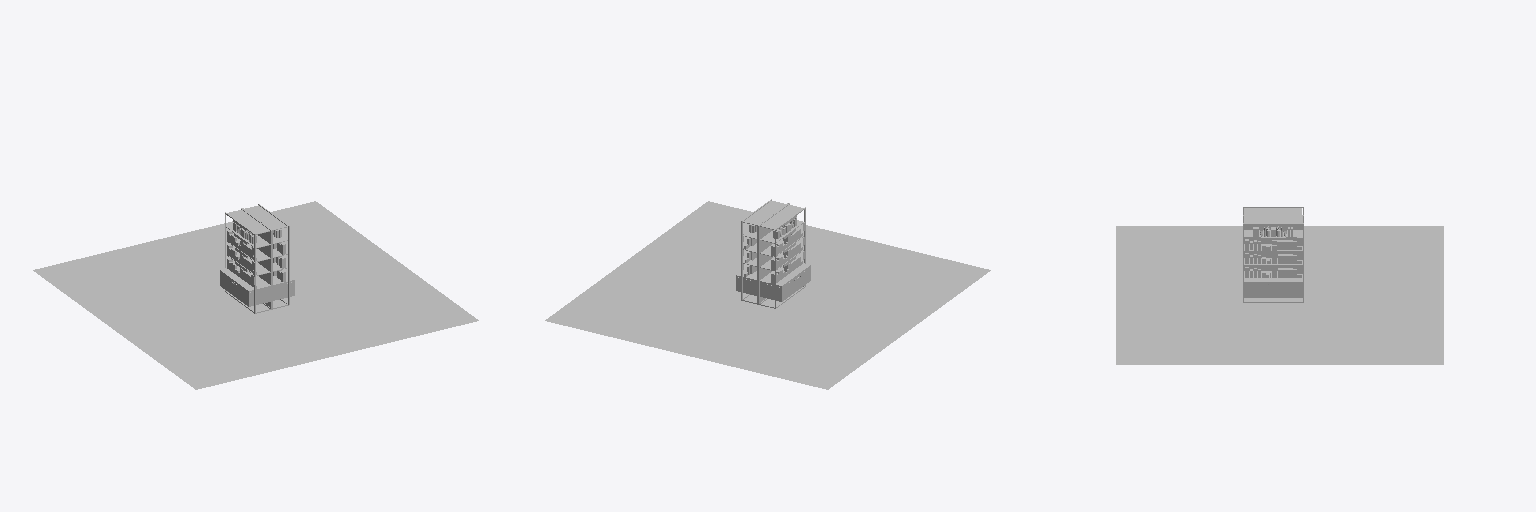
The model's file is woolworths gondola display_6 Fragrances.obj.
3 views of the same model, side by side, from view 1: azimuth 30°, elevation 25°; view 2: azimuth 150°, elevation 25°; view 3: azimuth 270°, elevation 25° (orthographic).
Visible parts, largest first — view 1: Plane, Cube.373_Cube.435; view 2: Plane, Cube.373_Cube.435; view 3: Plane, Cube.033_Cube.017, Cube.053_Cube.060.
Boxes of the visible parts, x1,y1,x2,y2 form: Plane: [33, 201, 478, 389]; Cube.373_Cube.435: [220, 266, 270, 306]; Plane: [545, 201, 990, 389]; Cube.373_Cube.435: [760, 263, 810, 301]; Plane: [1116, 226, 1443, 364]; Cube.033_Cube.017: [1244, 271, 1302, 297]; Cube.053_Cube.060: [1244, 225, 1302, 270].
Bounding box in the file's own units: 5.61 × 1.5 × 5.61.